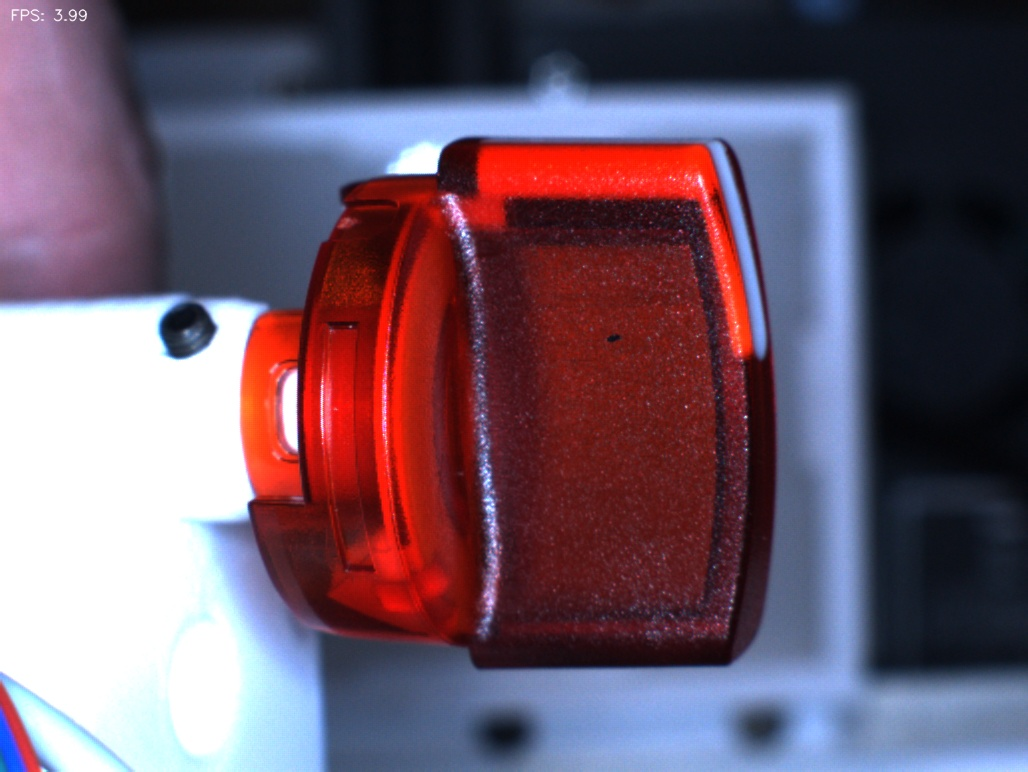PointNoir: (572, 302, 655, 372)
